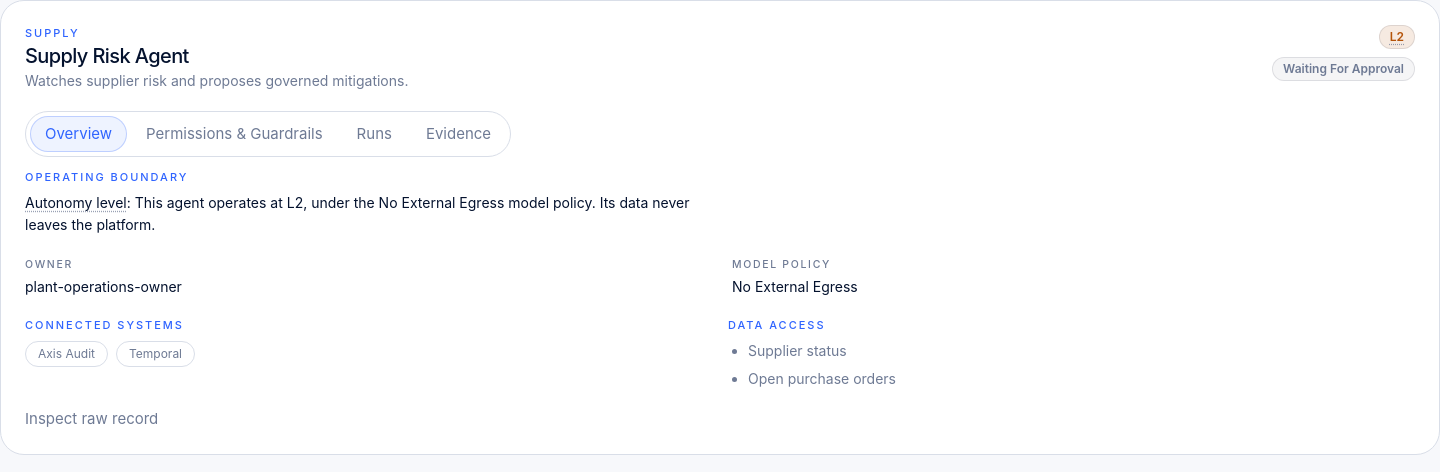
Scenario: AgentDetail runs tab › renders the ErrorPanel when the runs API is unavailable
The width and height of the screenshot is (1440, 472).
Click the tab "Runs": (374,134) [342,116,407,152]
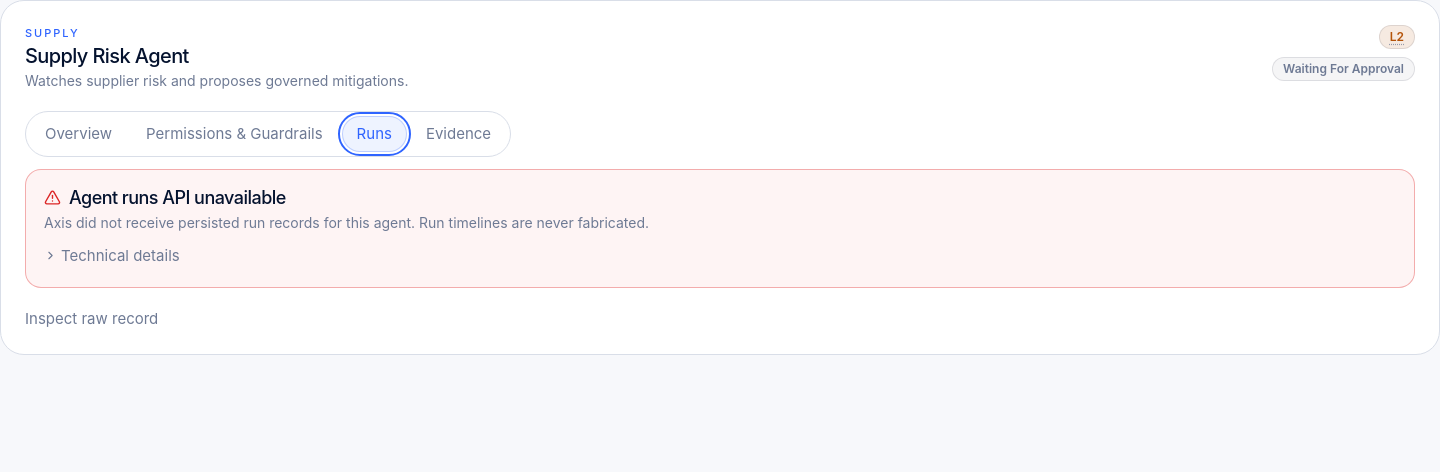
Check: the heading "Agent runs API unavailable" is shown, box [44,187,286,208]
